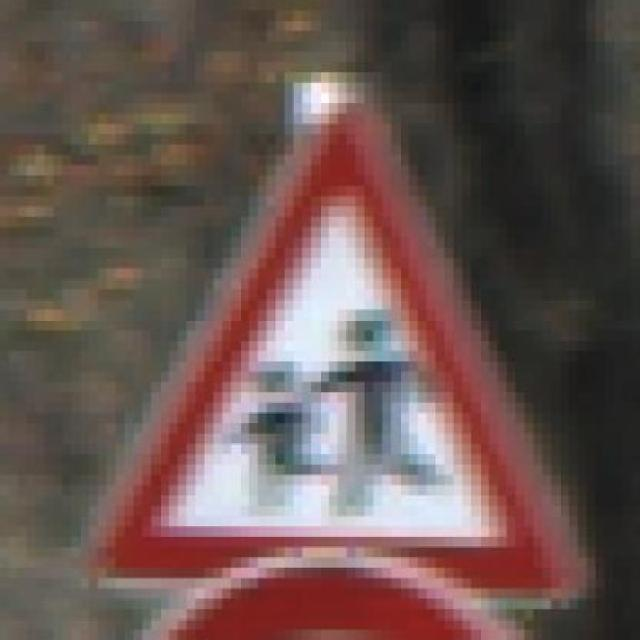Beware of children: (78, 62, 594, 609)
